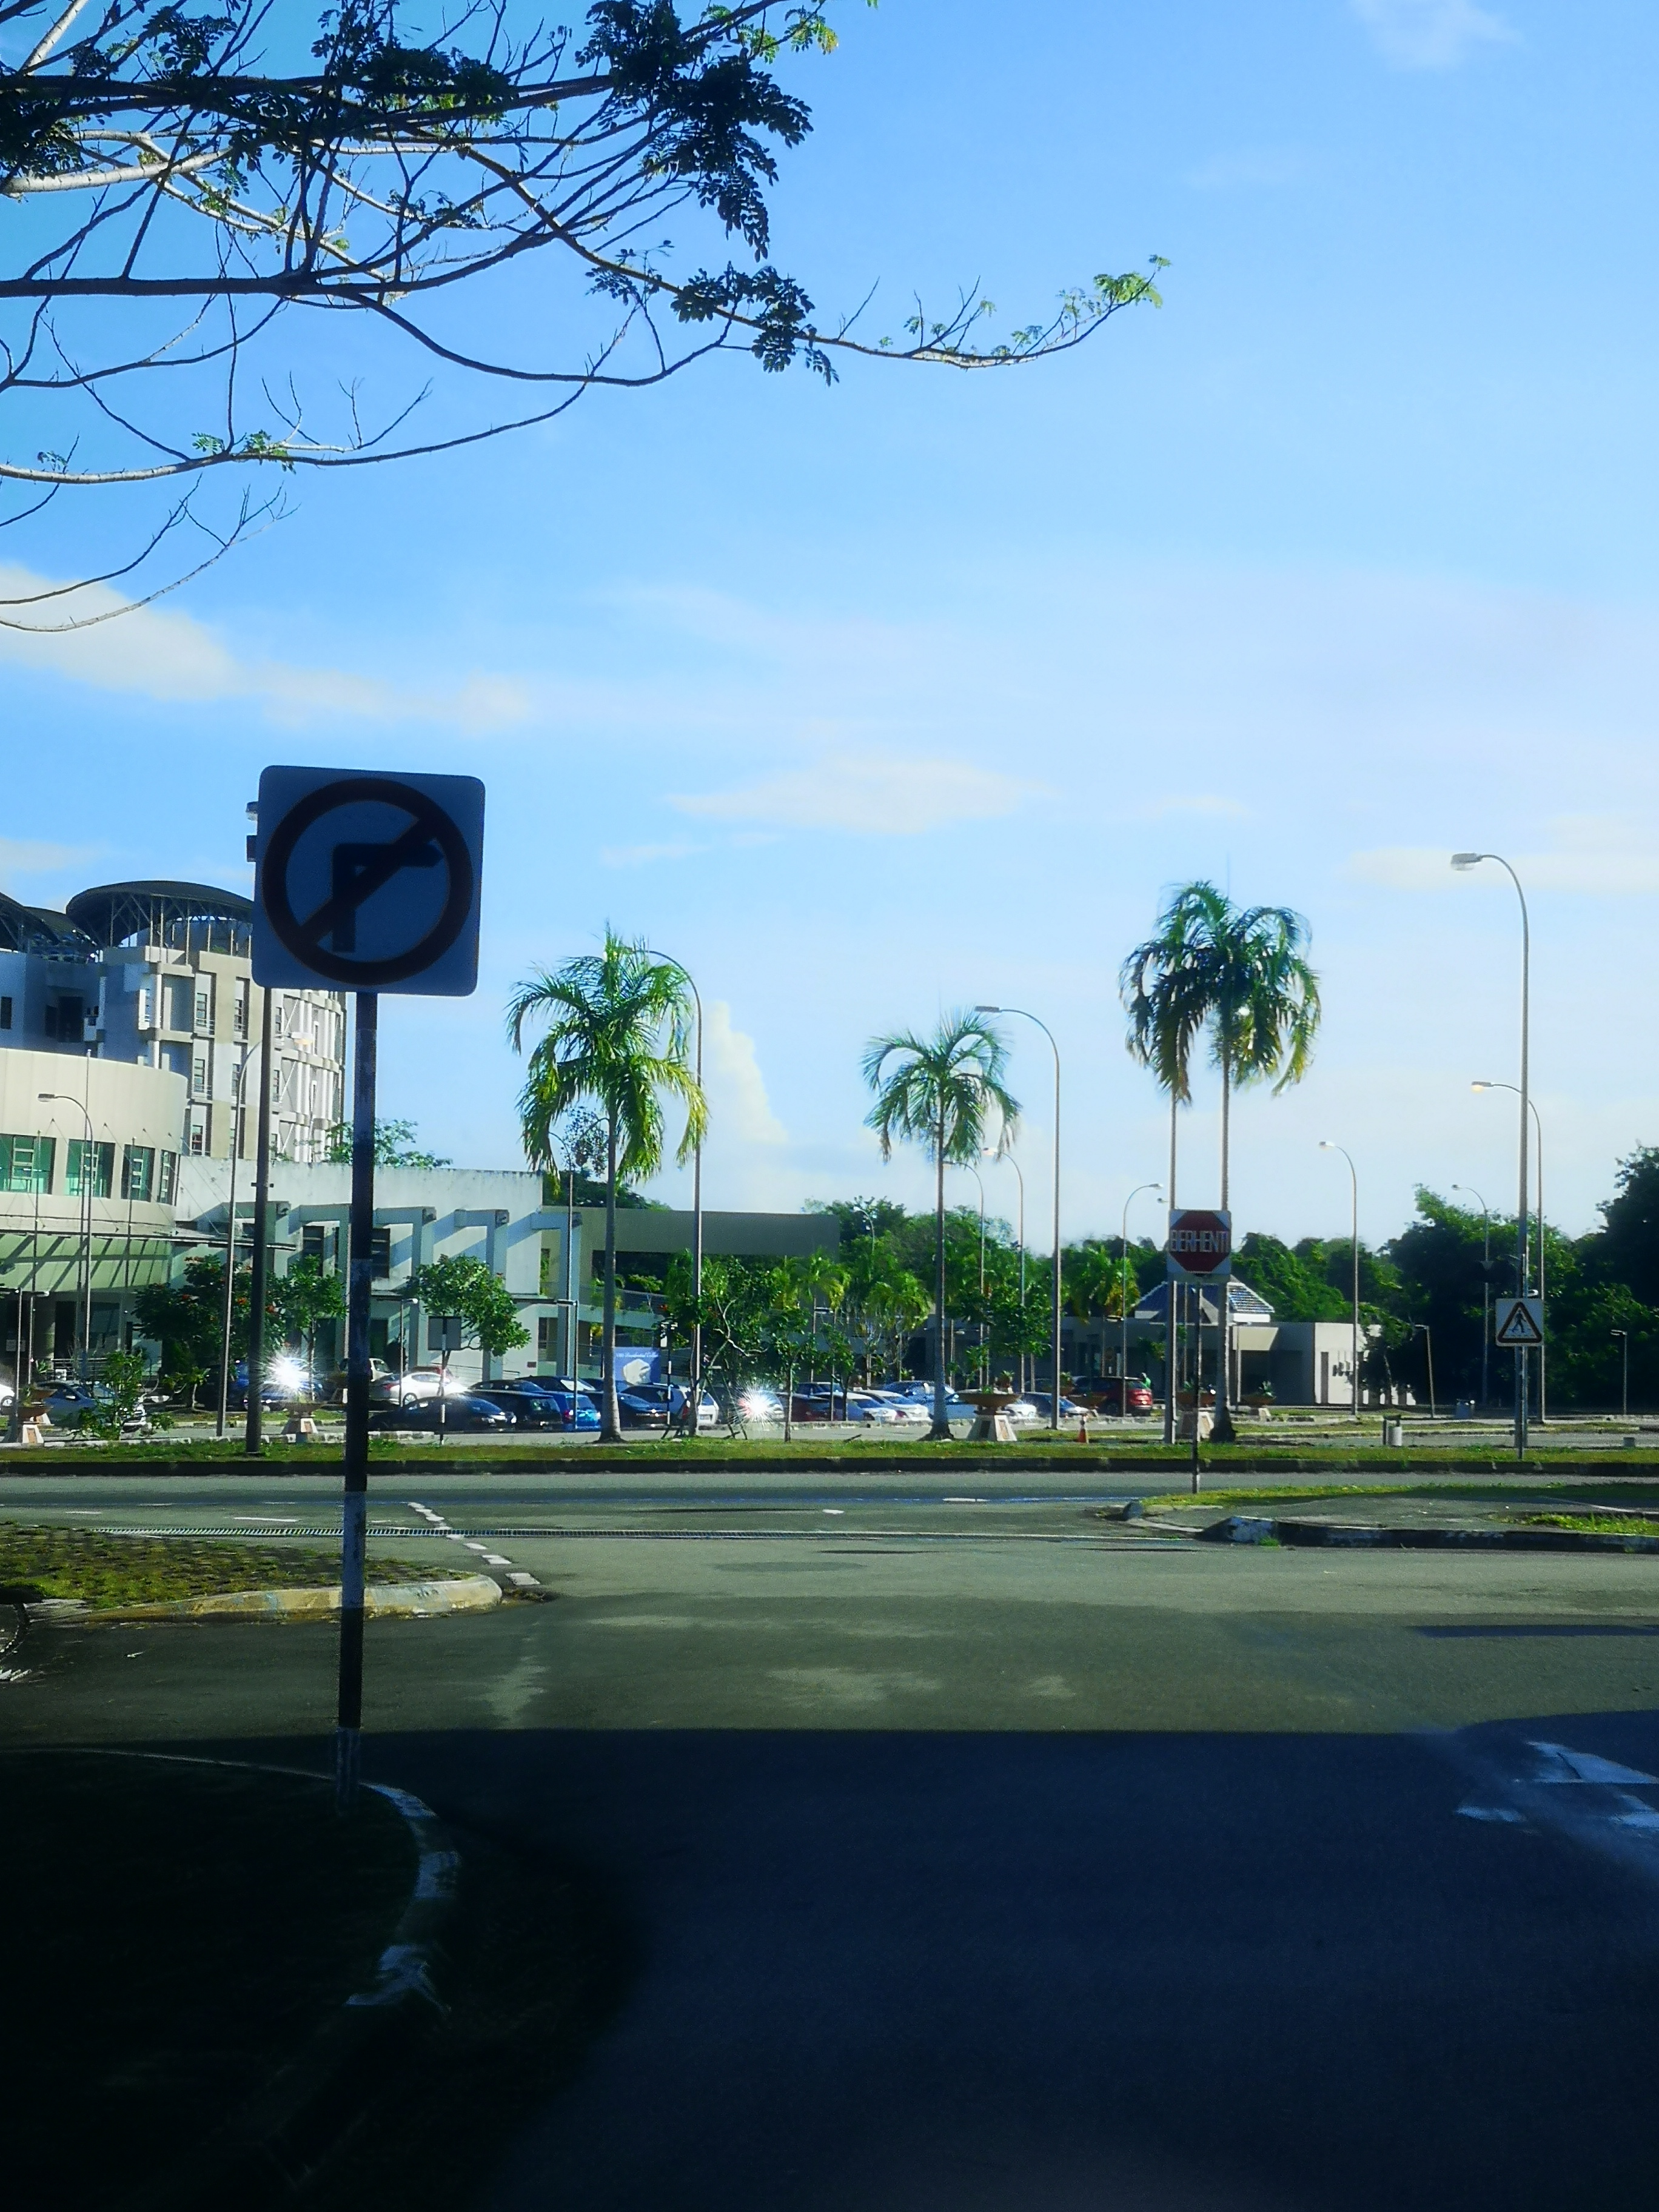no right turn: (256, 773, 474, 993)
